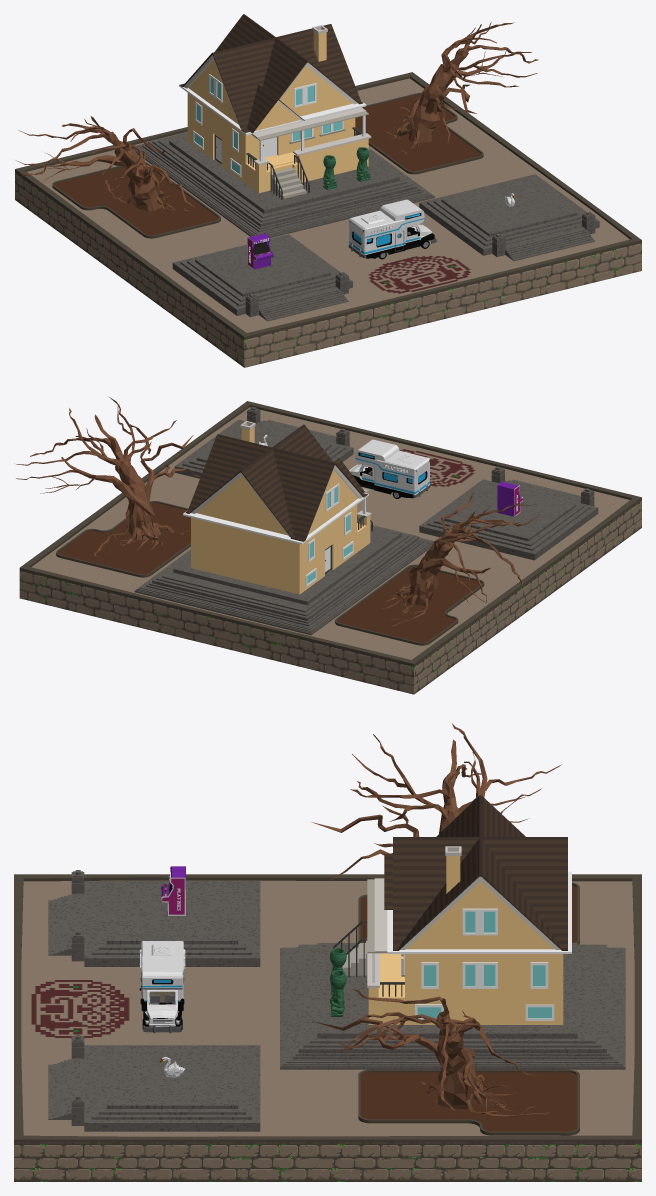
3 renders of one model, top to bottom at view 1: azimuth 30°, elevation 25°; view 2: azimuth 150°, elevation 25°; view 3: azimuth 270°, elevation 25°, orthographic. The views are drawn at different scales.
Parts seen in each view (by area): view 1: Cube.011, Cube.235, VEHICLES_CAMPER, OBJRANDOM_ARCADE; view 2: Cube.011, Cube.235, VEHICLES_CAMPER, OBJRANDOM_ARCADE; view 3: Cube.011, Cube.235, VEHICLES_CAMPER, OBJRANDOM_ARCADE.
Part boxes in pixels (x1,y1,x2,y2): Cube.011: (15,22,641,367); Cube.235: (179,14,371,199); VEHICLES_CAMPER: (348,199,436,259); OBJRANDOM_ARCADE: (247,233,273,269); Cube.011: (14,397,641,694); Cube.235: (183,421,372,594); VEHICLES_CAMPER: (349,439,430,498); OBJRANDOM_ARCADE: (497,481,522,516); Cube.011: (14,723,641,1181); Cube.235: (333,795,571,1024); VEHICLES_CAMPER: (139,941,185,1033); OBJRANDOM_ARCADE: (161,866,185,915).
Bounding box in the file's own units: 5099 × 1668 × 4000.
Materials: 40 (5 with a texture image).
